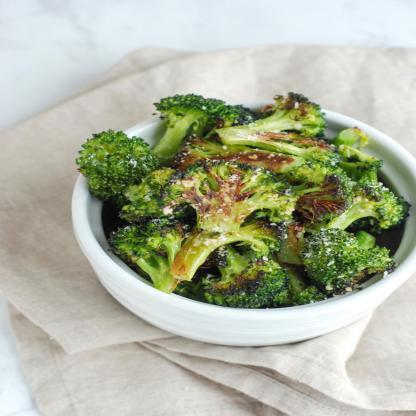broccoli: (80, 93, 410, 309)
